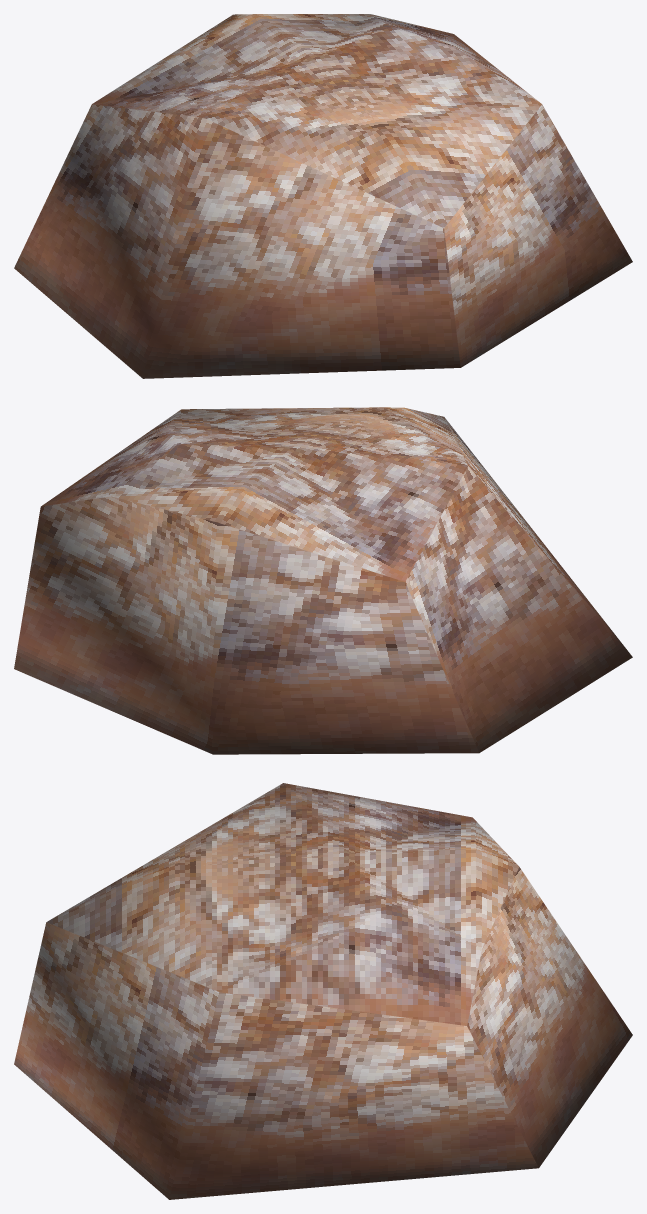
File: bread_01.glb
3 renders of one model, top to bottom at view 1: azimuth 30°, elevation 25°; view 2: azimuth 150°, elevation 25°; view 3: azimuth 270°, elevation 25°, orthographic. The views are drawn at different scales.
Parts seen in each view (by area): view 1: bread; view 2: bread; view 3: bread.
Part boxes in pixels (x1=…): bread: x1=14, y1=14, x2=632, y2=378; bread: x1=14, y1=407, x2=632, y2=754; bread: x1=14, y1=783, x2=632, y2=1199.
Size of the model in its own units: 1.96 by 0.781 by 1.97.
Materials: 1 (1 with a texture image).
